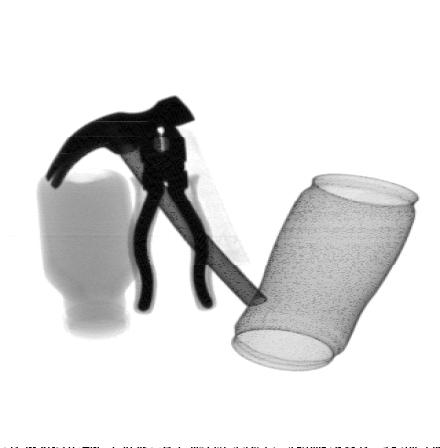Hammer: (44, 93, 269, 306)
Pliers: (127, 121, 218, 316)
